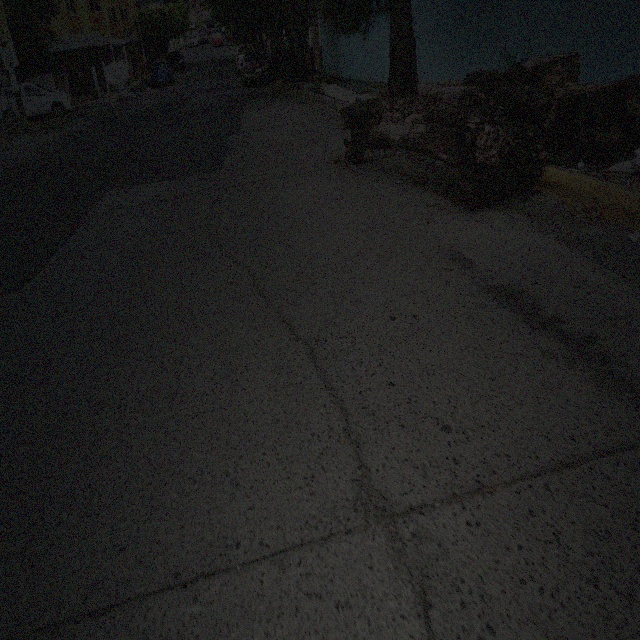pothole: (354, 471, 404, 545)
